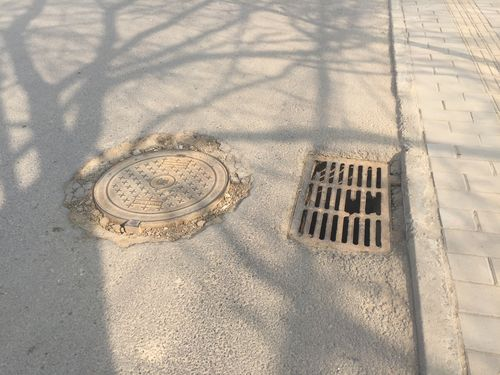circle: (63, 121, 258, 252)
